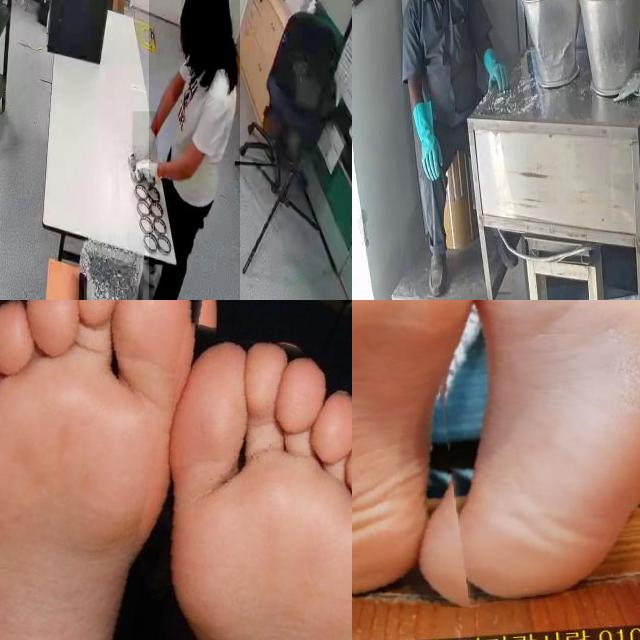Barefoots: (0, 300, 211, 640), (418, 300, 640, 595), (154, 364, 352, 640), (352, 300, 468, 597)
hand_glove: (414, 132, 447, 184), (132, 111, 158, 164), (481, 60, 514, 96), (129, 158, 162, 193)
head_nohelmet: (181, 0, 230, 11)
person: (396, 0, 510, 298), (149, 0, 240, 300)
shoes: (420, 251, 455, 300)
